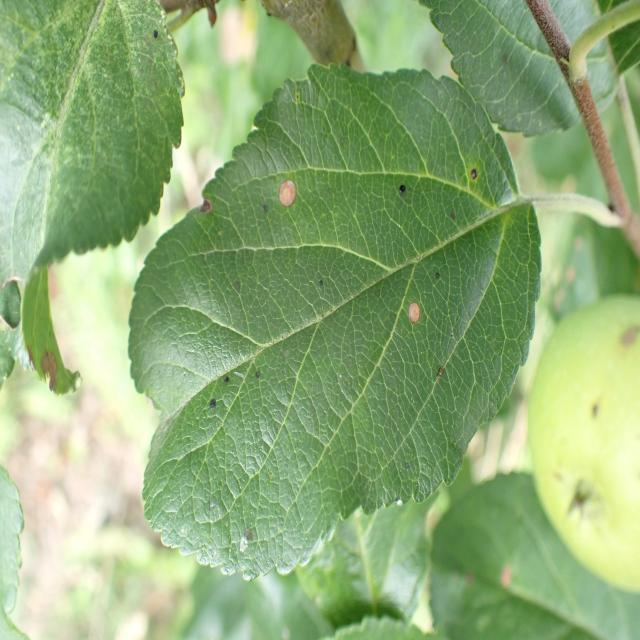frog-eye-leaf-spot: (126, 63, 545, 585), (1, 0, 186, 401)
